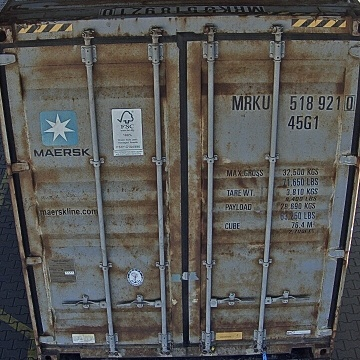serial_id: (232, 94, 355, 109)
